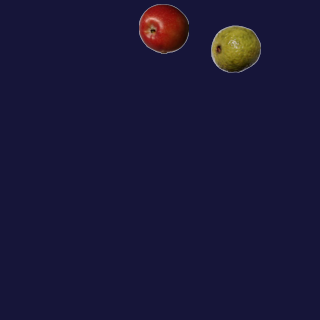Apple Braeburn: (138, 3, 188, 53)
Guava: (210, 23, 260, 73)
